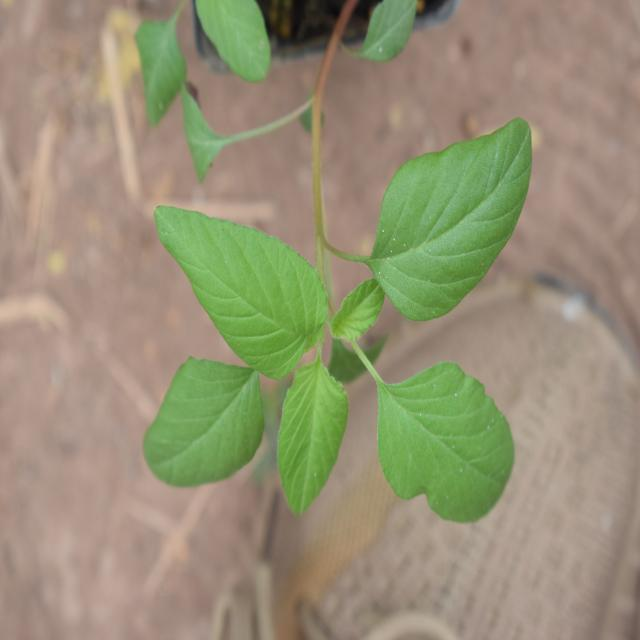pigweed: (161, 131, 548, 558)
